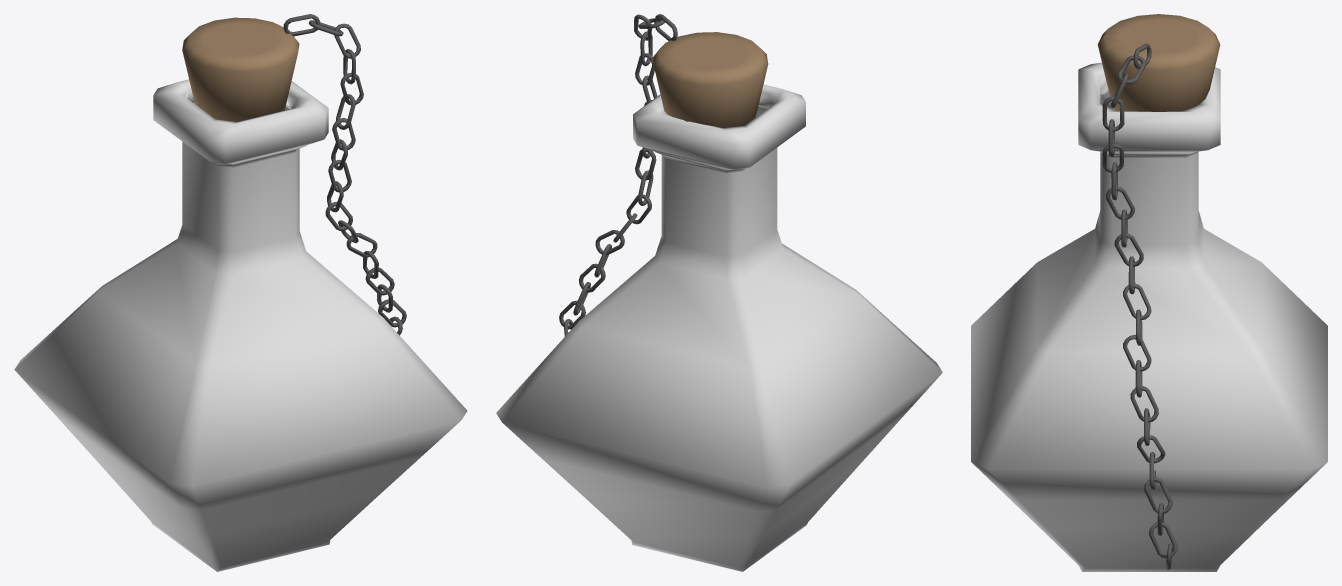
The model's file is potion purple.fbx.
3 renders of one model, left to right at view 1: azimuth 30°, elevation 25°; view 2: azimuth 150°, elevation 25°; view 3: azimuth 270°, elevation 25°, orthographic. The views are drawn at different scales.
Visible parts, largest first — view 1: Cube.004, Cylinder.003, Torus.003; view 2: Cube.004, Cylinder.003, Torus.003; view 3: Cube.004, Cylinder.003, Torus.003.
Part boxes in pixels (x1=…): Cube.004: x1=14, y1=79, x2=467, y2=571; Cylinder.003: x1=182, y1=17, x2=299, y2=121; Torus.003: x1=283, y1=14, x2=406, y2=335; Cube.004: x1=496, y1=84, x2=942, y2=571; Cylinder.003: x1=652, y1=32, x2=768, y2=127; Torus.003: x1=559, y1=14, x2=677, y2=336; Cube.004: x1=971, y1=62, x2=1327, y2=571; Cylinder.003: x1=1097, y1=14, x2=1220, y2=111; Torus.003: x1=1102, y1=43, x2=1177, y2=569.
Bounding box in the file's own units: 260 × 394 × 241.
